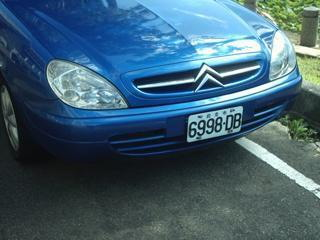plate: (184, 109, 243, 140)
